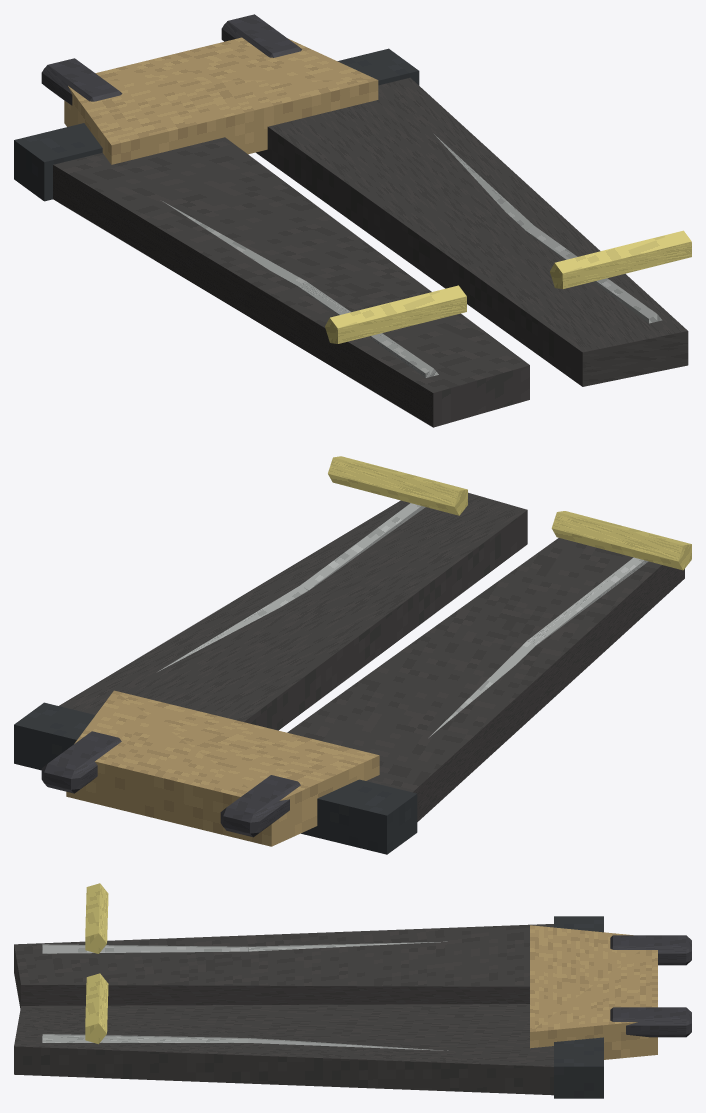
The model's file is bunker_pants.glb.
3 renders of one model, top to bottom at view 1: azimuth 30°, elevation 25°; view 2: azimuth 150°, elevation 25°; view 3: azimuth 270°, elevation 25°, orthographic. The views are drawn at different scales.
Parts seen in each view (by area): view 1: block_leg panel (×2), block_ski bib, block_reflective cuff band 0 (×2), block_waist belt, block_adjustable suspenders (×2), block_leg closure 1 (×2), block_leg closure 0 (×2); view 2: block_leg panel (×2), block_ski bib, block_waist belt, block_reflective cuff band 0 (×2), block_adjustable suspenders (×2), block_leg closure 1 (×2), block_leg closure 0 (×2); view 3: block_leg panel (×2), block_ski bib, block_adjustable suspenders (×2), block_waist belt, block_reflective cuff band 0 (×2), block_leg closure 1 (×2), block_leg closure 0 (×2).
Boxes of the visible parts, bbox=[...] form: block_leg panel (×2): bbox=[53, 77, 688, 427]; block_ski bib: bbox=[64, 37, 378, 164]; block_reflective cuff band 0 (×2): bbox=[325, 230, 691, 343]; block_waist belt: bbox=[14, 48, 419, 201]; block_adjustable suspenders (×2): bbox=[41, 14, 301, 105]; block_leg closure 1 (×2): bbox=[298, 225, 662, 377]; block_leg closure 0 (×2): bbox=[162, 134, 533, 286]; block_leg panel (×2): bbox=[59, 492, 684, 821]; block_ski bib: bbox=[66, 690, 379, 846]; block_waist belt: bbox=[14, 702, 417, 854]; block_reflective cuff band 0 (×2): bbox=[328, 456, 691, 570]; block_adjustable suspenders (×2): bbox=[41, 731, 300, 837]; block_leg closure 1 (×2): bbox=[300, 503, 648, 645]; block_leg closure 0 (×2): bbox=[158, 585, 535, 737]; block_leg panel (×2): bbox=[14, 924, 553, 1095]; block_ski bib: bbox=[530, 925, 657, 1059]; block_adjustable suspenders (×2): bbox=[610, 935, 691, 1037]; block_waist belt: bbox=[554, 916, 603, 1098]; block_reflective cuff band 0 (×2): bbox=[85, 883, 108, 1044]; block_leg closure 1 (×2): bbox=[42, 944, 248, 1042]; block_leg closure 0 (×2): bbox=[248, 941, 448, 1050].
Bounding box in the file's own units: 0.4051 × 0.0884 × 0.7729.
Materials: 1 (1 with a texture image).
